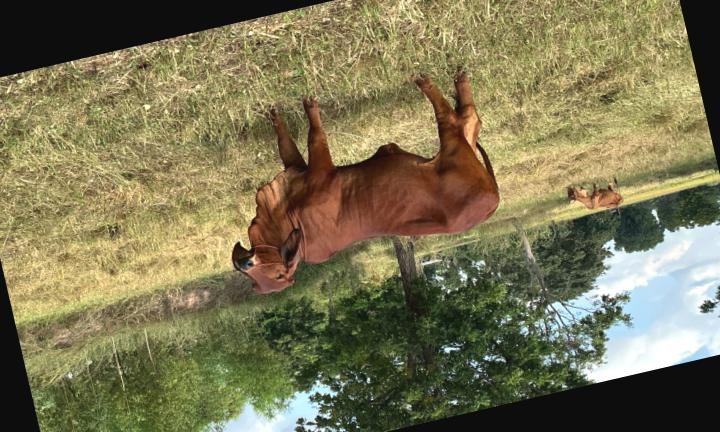Brahman: (233, 75, 499, 293)
